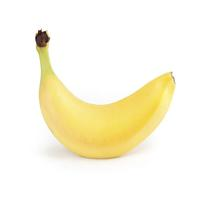banane: (26, 23, 188, 166)
